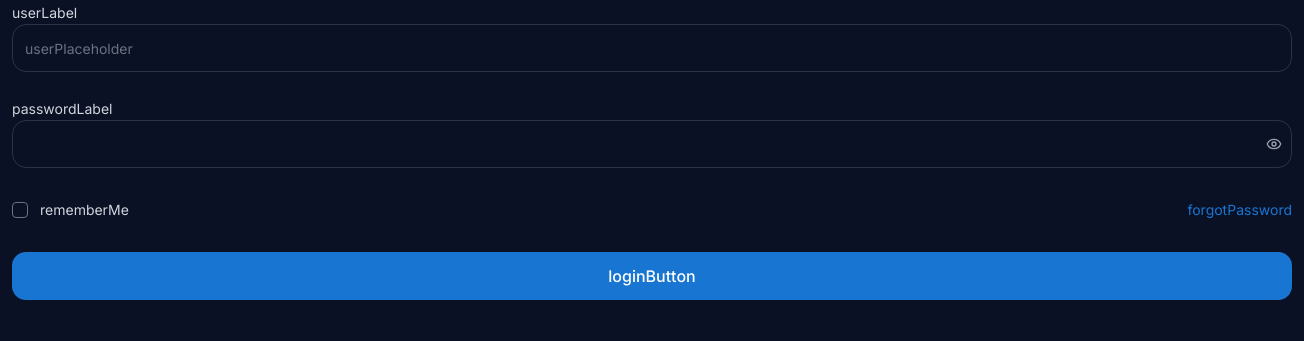
Scenario: LoginForm › Form validation › should show validation error for short password
The width and height of the screenshot is (1304, 341).
In the field with placeholder "userPlaceholder": (652, 48) top-left (12, 24), bottom-right (1292, 72), type "test@example.com"
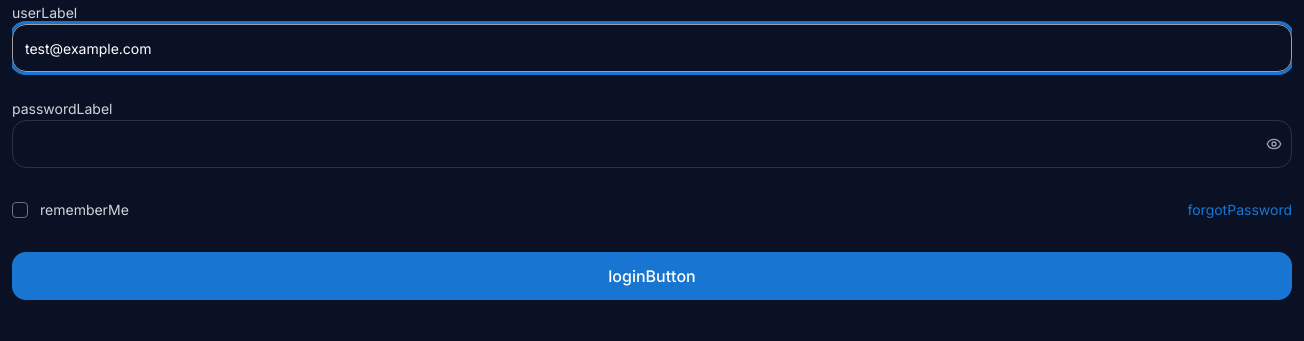
In the password field: (652, 144) top-left (12, 120), bottom-right (1292, 168), type "123"
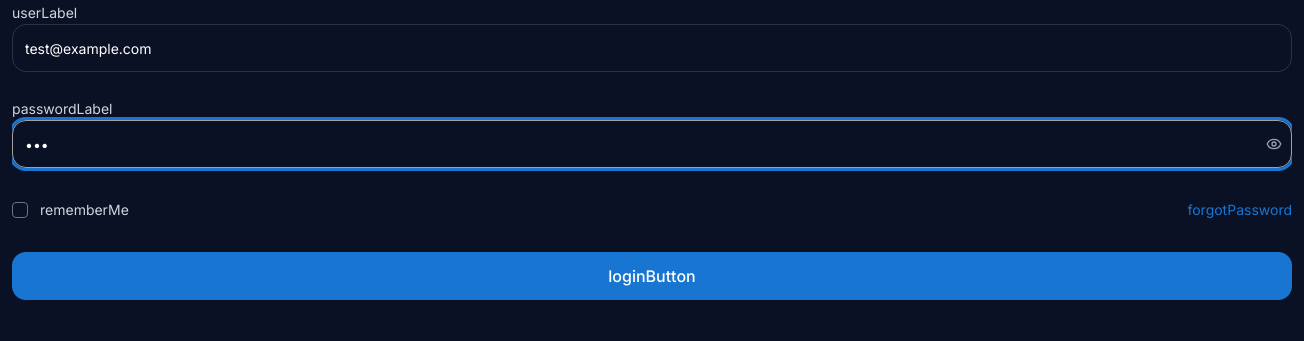
Click the button "loginButton": click(652, 276) top-left (12, 252), bottom-right (1292, 300)
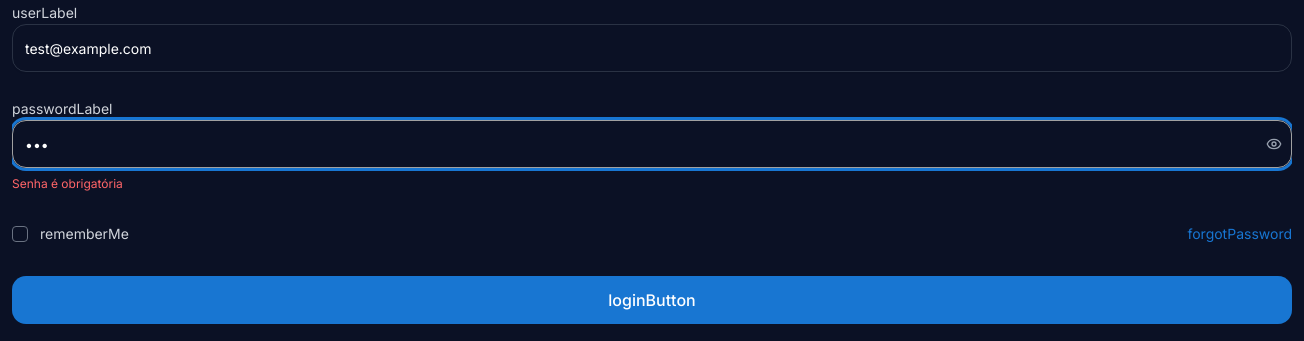
expect the text "Senha é obrigatória" is shown: met, box top-left (12, 176), bottom-right (123, 191)
